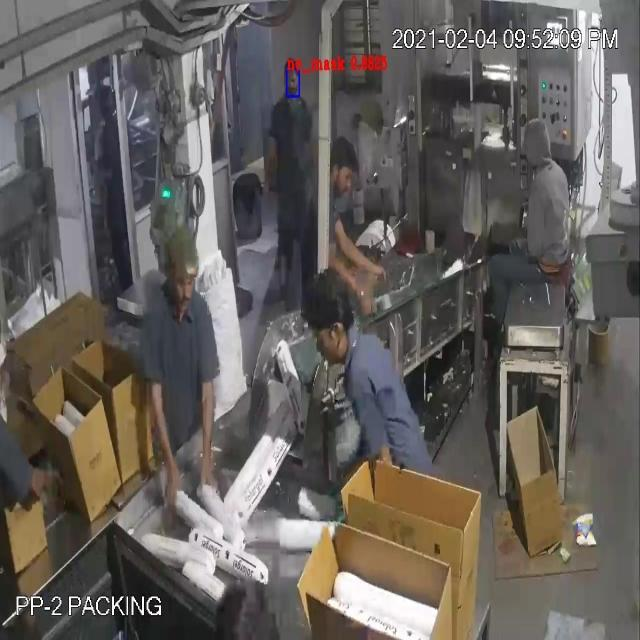No_Gloves: (34, 74, 359, 490)
